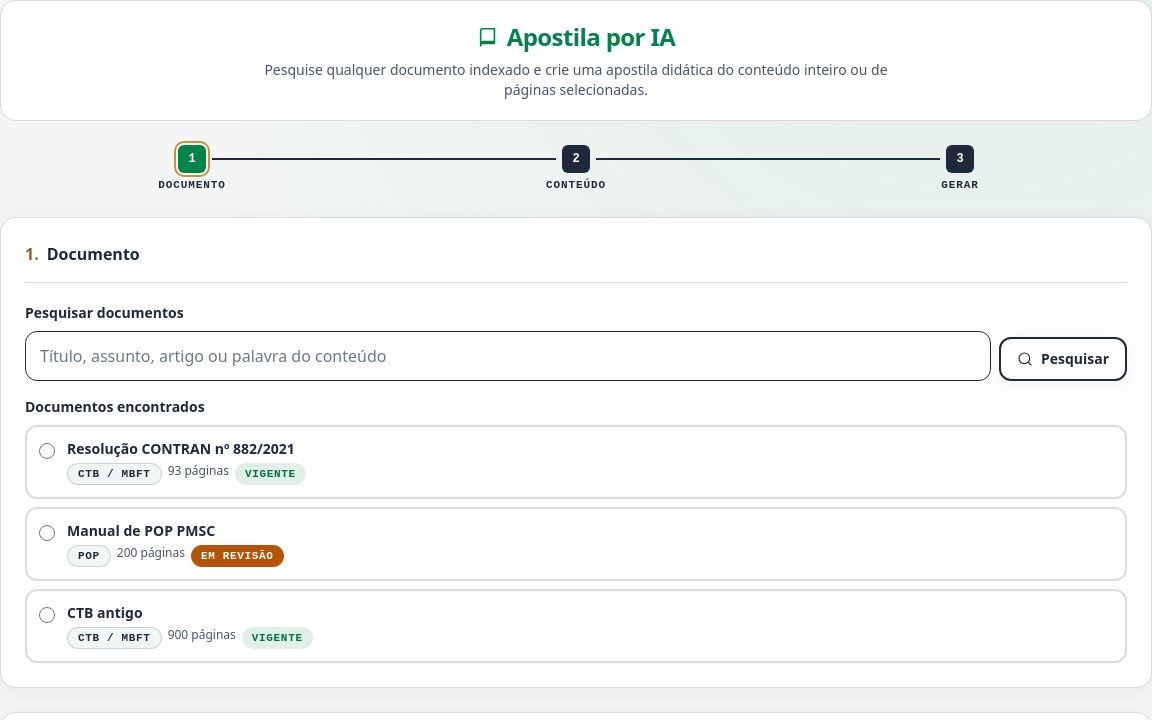
Test: GerarApostila › lista todo o acervo com situação, coleção e público Agentes
Expected: the text "Resolução CONTRAN nº 882/2021" is shown, left=67, top=439, right=295, bottom=458
Expected: the text "Manual de POP PMSC" is shown, left=67, top=521, right=215, bottom=540
Click the radio button labelled "Resolução CONTRAN nº 882/2021": point(47, 451) left=39, top=443, right=55, bottom=459
(page scrolled)
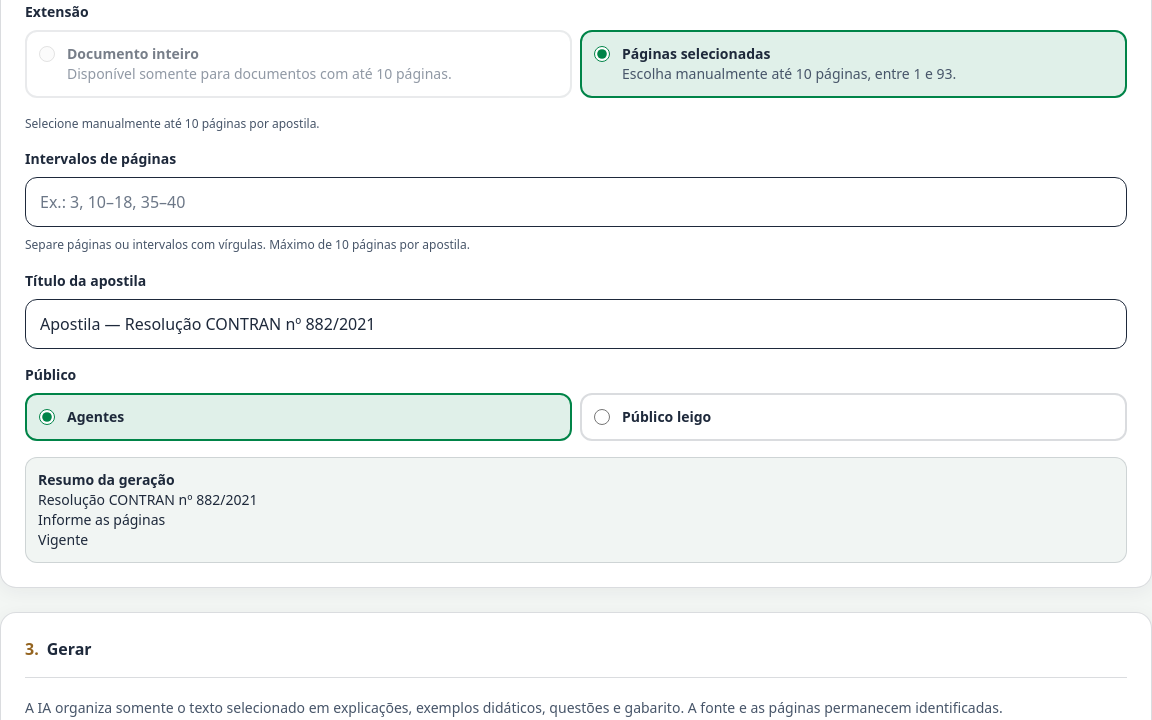
Now the radio button labelled "Agentes" is checked, box left=39, top=409, right=55, bottom=425
